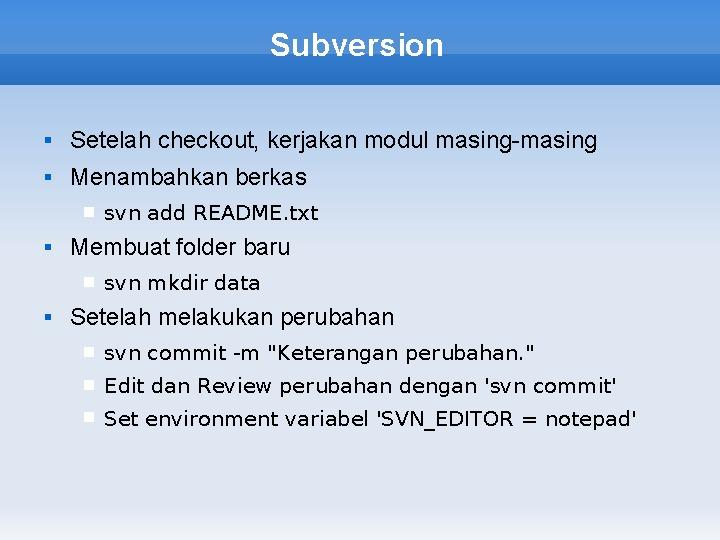paragraph: (35, 106, 685, 476)
title: (259, 19, 461, 76)
